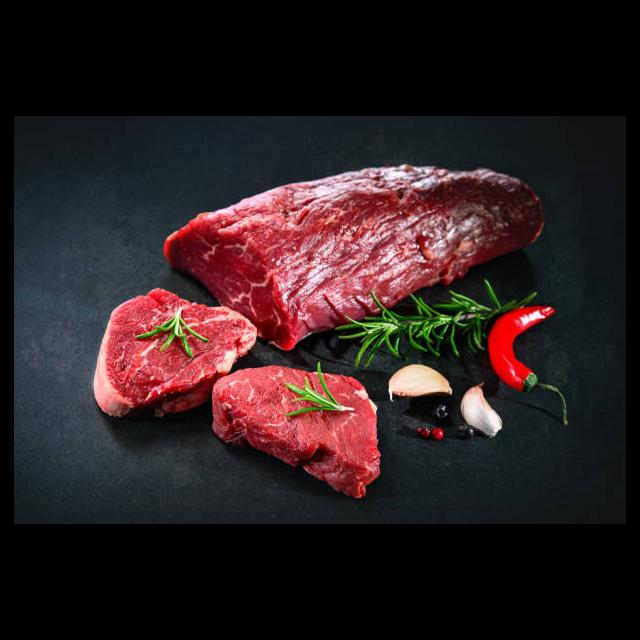beef: (165, 163, 545, 349), (212, 365, 381, 497), (93, 287, 258, 413)
